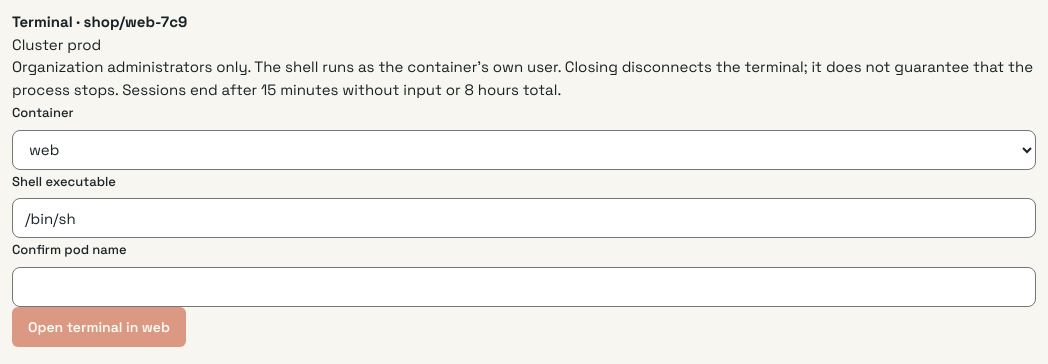
words the pod_security close reason in fixed text
In the field labelled "Confirm pod name": (524, 286) [12,266,1036,306], type "web-7c9"
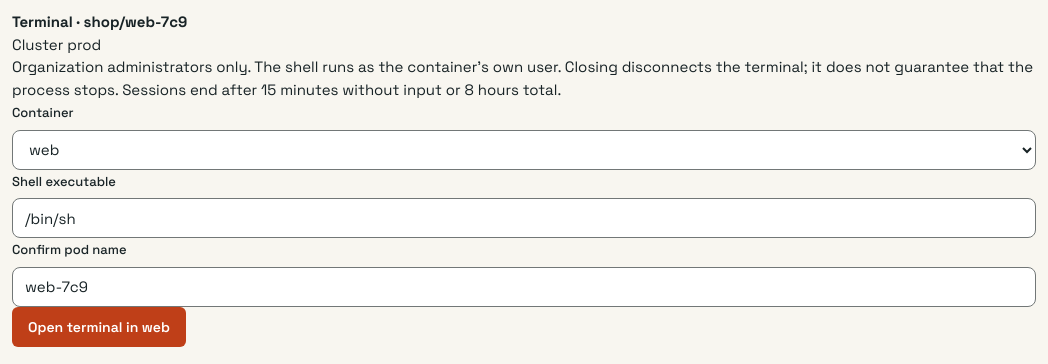
Click the button "Open terminal in web": (99, 326) [12,306,186,346]
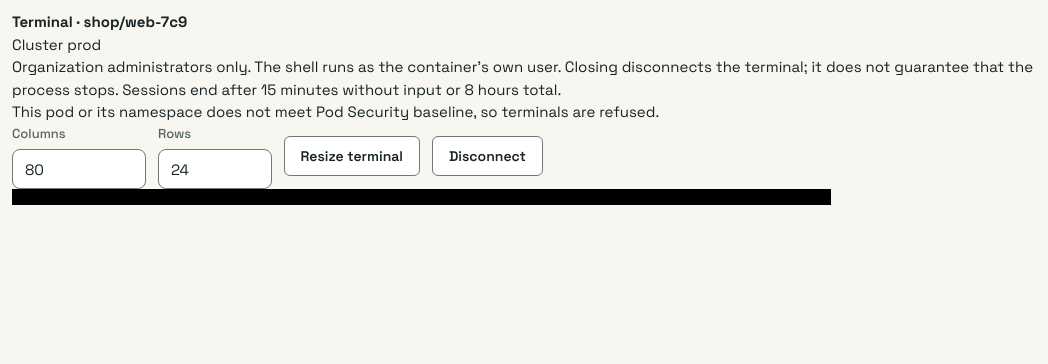
Result: the message shows "This pod or its namespace does not meet Pod Security baseline, so terminals are refused." at [12,102,659,121]
